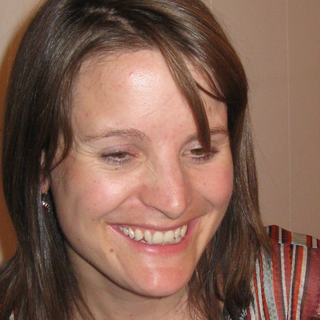eye: (92, 138, 152, 172), (181, 139, 230, 166)
